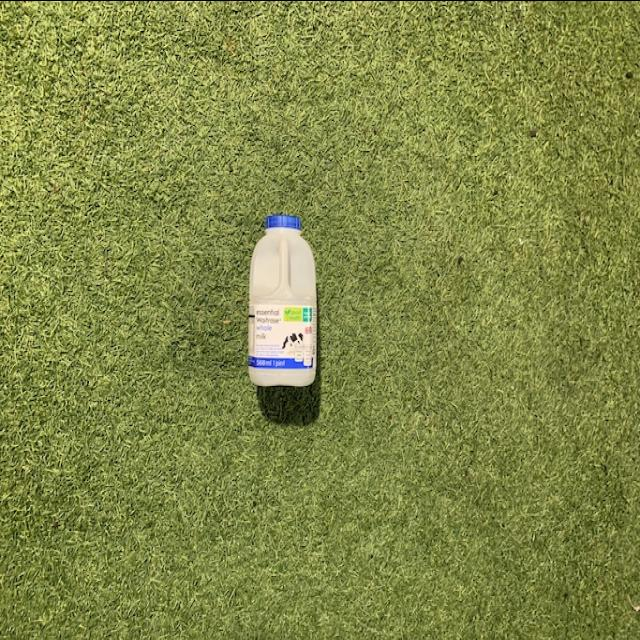HDPEM: (246, 210, 322, 392)
